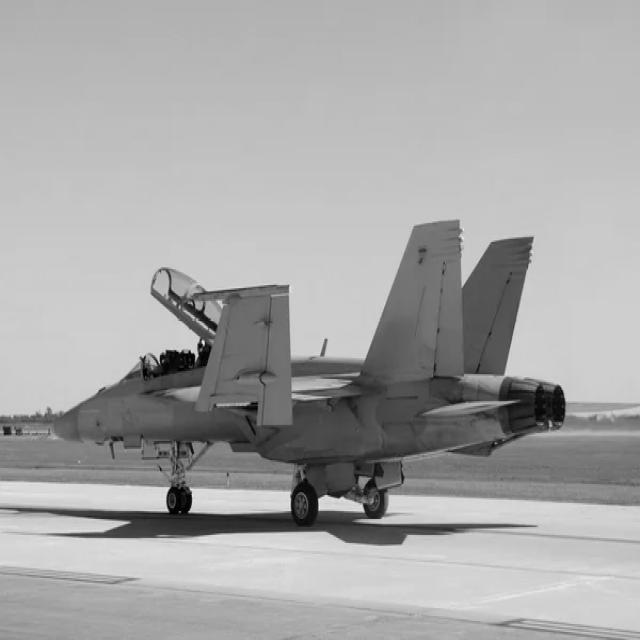Aircraft: (53, 205, 584, 540)
